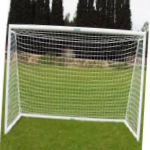goals: (2, 22, 148, 145)
